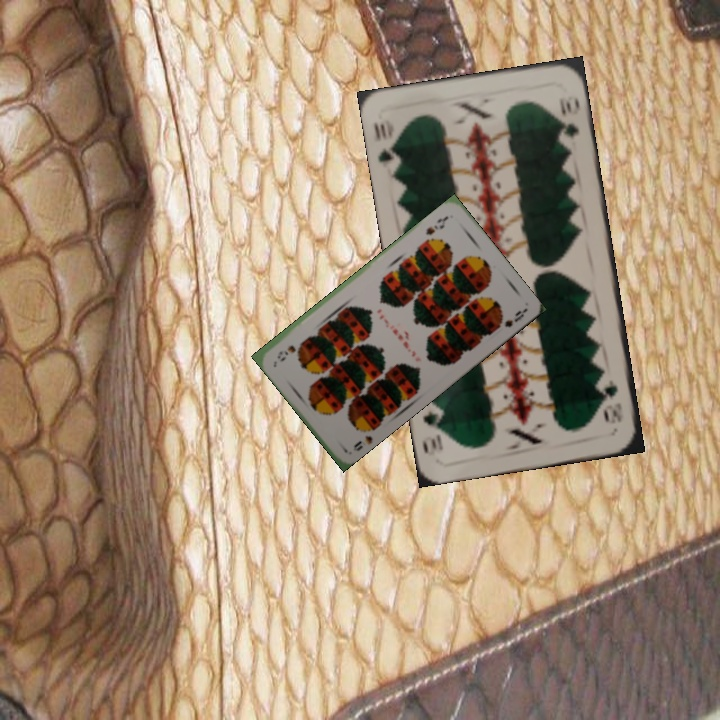G10: (370, 115, 403, 171), (600, 375, 626, 425)
S9: (349, 421, 379, 454), (421, 211, 451, 238)
